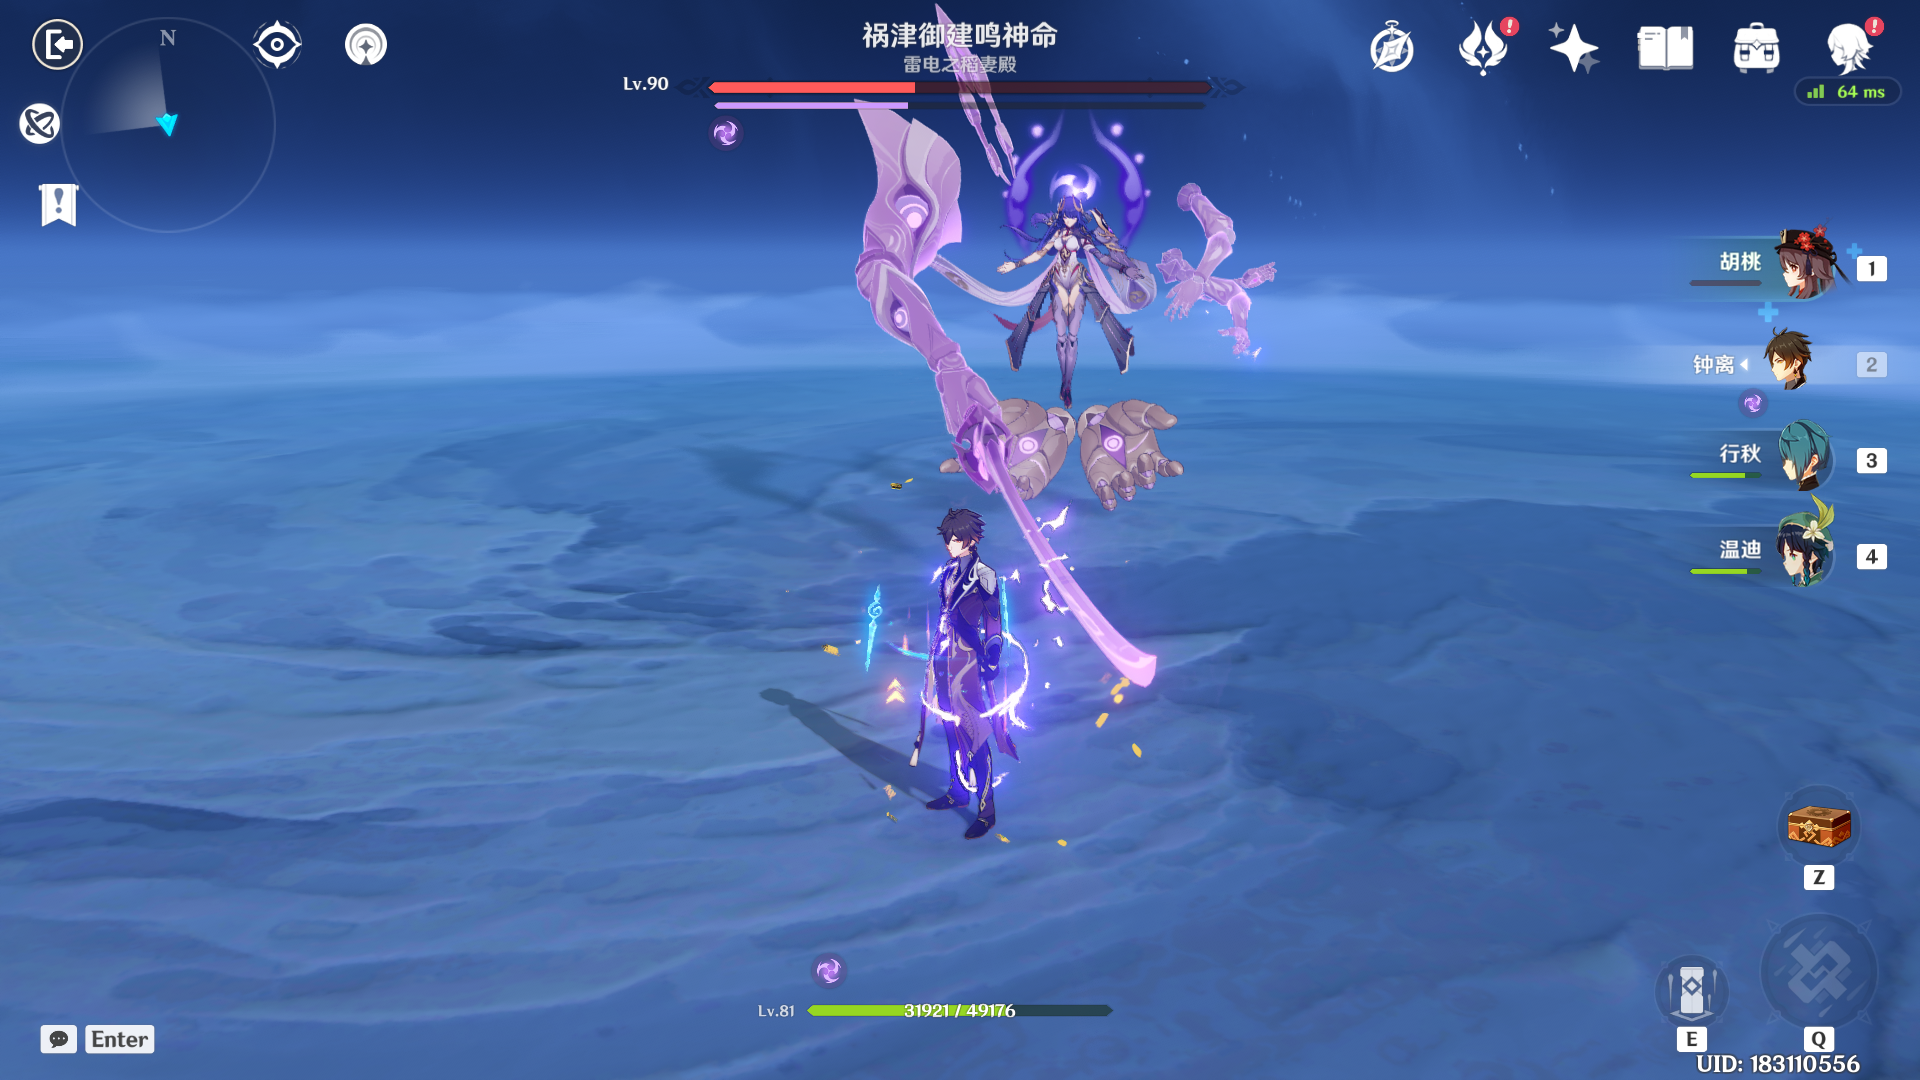character: (844, 481, 1063, 860), (996, 177, 1153, 419)
